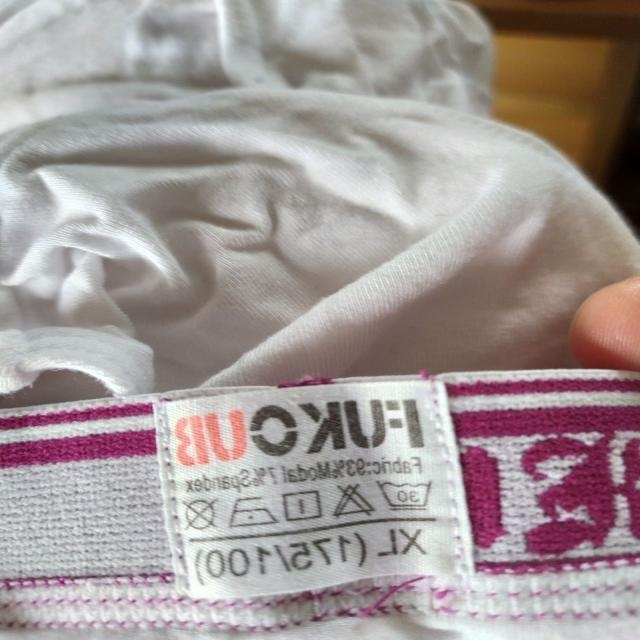30C: (376, 475, 432, 510)
DN_bleach: (329, 482, 375, 517)
DN_dry_clean: (178, 496, 220, 532)
iron_low: (227, 494, 276, 529)
